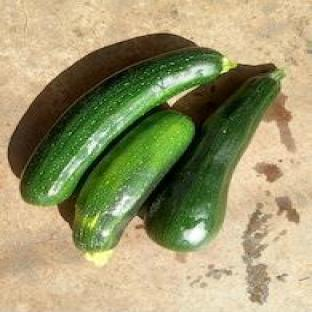Zucchini: (21, 47, 235, 206), (146, 70, 283, 251), (74, 111, 193, 263)
